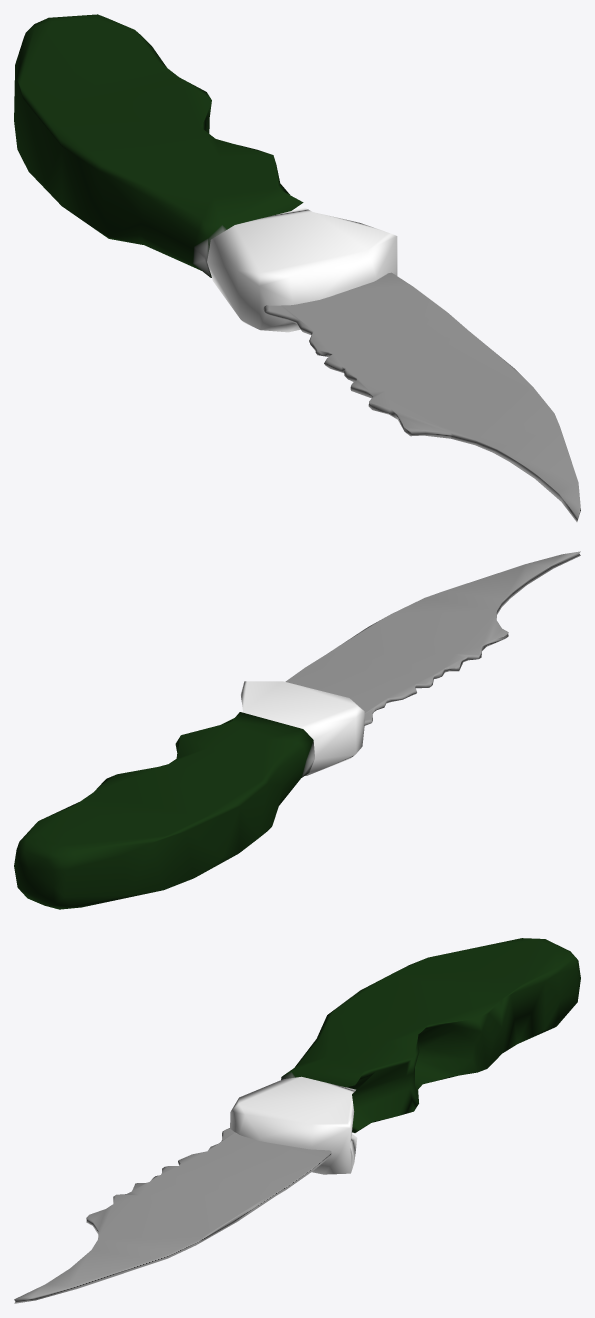
File: PocketKnife.fbx
The picture shows the model from 3 angles, top to bottom: view 1: azimuth 30°, elevation 25°; view 2: azimuth 150°, elevation 25°; view 3: azimuth 330°, elevation 25°; orthographic projection. The views are drawn at different scales.
Parts seen in each view (by area): view 1: Handle, Blade, Guard; view 2: Handle, Blade, Guard; view 3: Handle, Blade, Guard.
Boxes of the visible parts, left/top/right/bottom form: Handle: left=14, top=14, right=303, bottom=277; Blade: left=263, top=272, right=580, bottom=521; Guard: left=207, top=207, right=397, bottom=332; Handle: left=14, top=712, right=314, bottom=909; Blade: left=285, top=551, right=580, bottom=725; Guard: left=241, top=681, right=364, bottom=775; Handle: left=281, top=938, right=580, bottom=1132; Blade: left=14, top=1128, right=331, bottom=1303; Guard: left=230, top=1076, right=357, bottom=1174.
Bounding box in the file's own units: 2.92 × 1.28 × 17.8.
